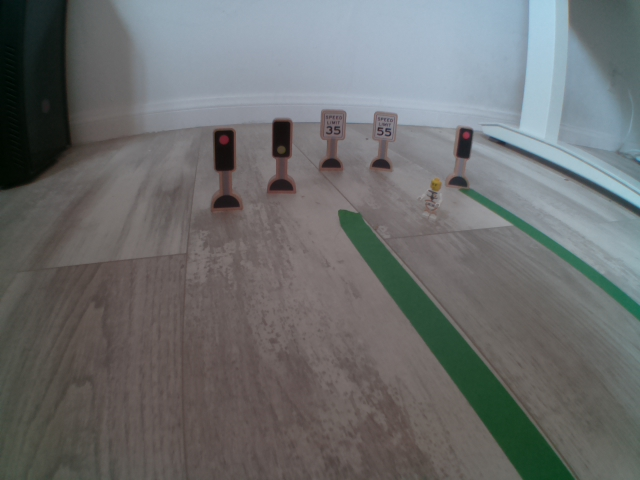Green Traffic Light: (270, 117, 294, 162)
Red Traffic Light: (212, 129, 236, 171), (454, 125, 473, 161)
Speed Limit 35: (320, 108, 349, 142)
Speed Limit 55: (372, 110, 396, 142)
person: (420, 175, 446, 225)
